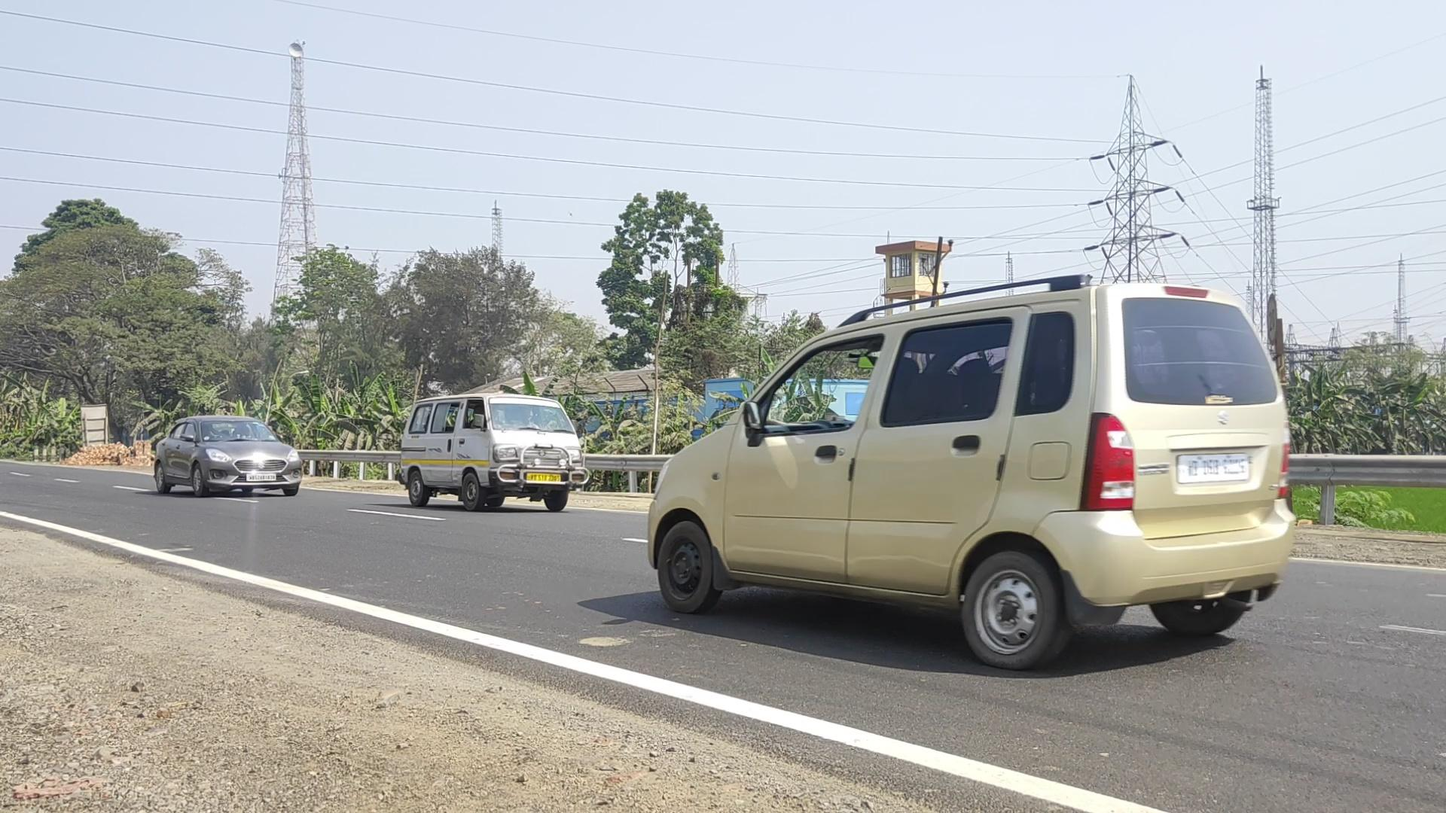car: (647, 274, 1296, 671), (154, 415, 303, 497)
van: (397, 392, 590, 512)
